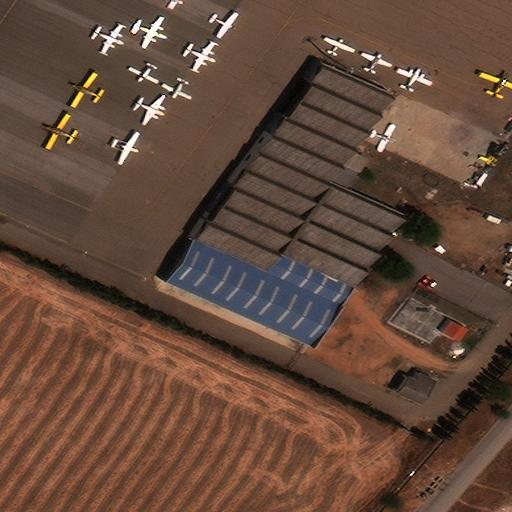Small Civil Transport: (70, 72, 101, 106), (44, 113, 74, 148), (133, 17, 166, 48), (111, 133, 139, 165), (136, 96, 166, 125), (184, 44, 216, 70), (93, 27, 123, 54), (480, 71, 511, 97), (398, 67, 432, 90), (369, 125, 396, 152), (210, 15, 238, 38), (363, 52, 393, 72), (325, 35, 356, 54), (162, 79, 189, 99), (128, 64, 156, 83), (166, 0, 183, 9)
